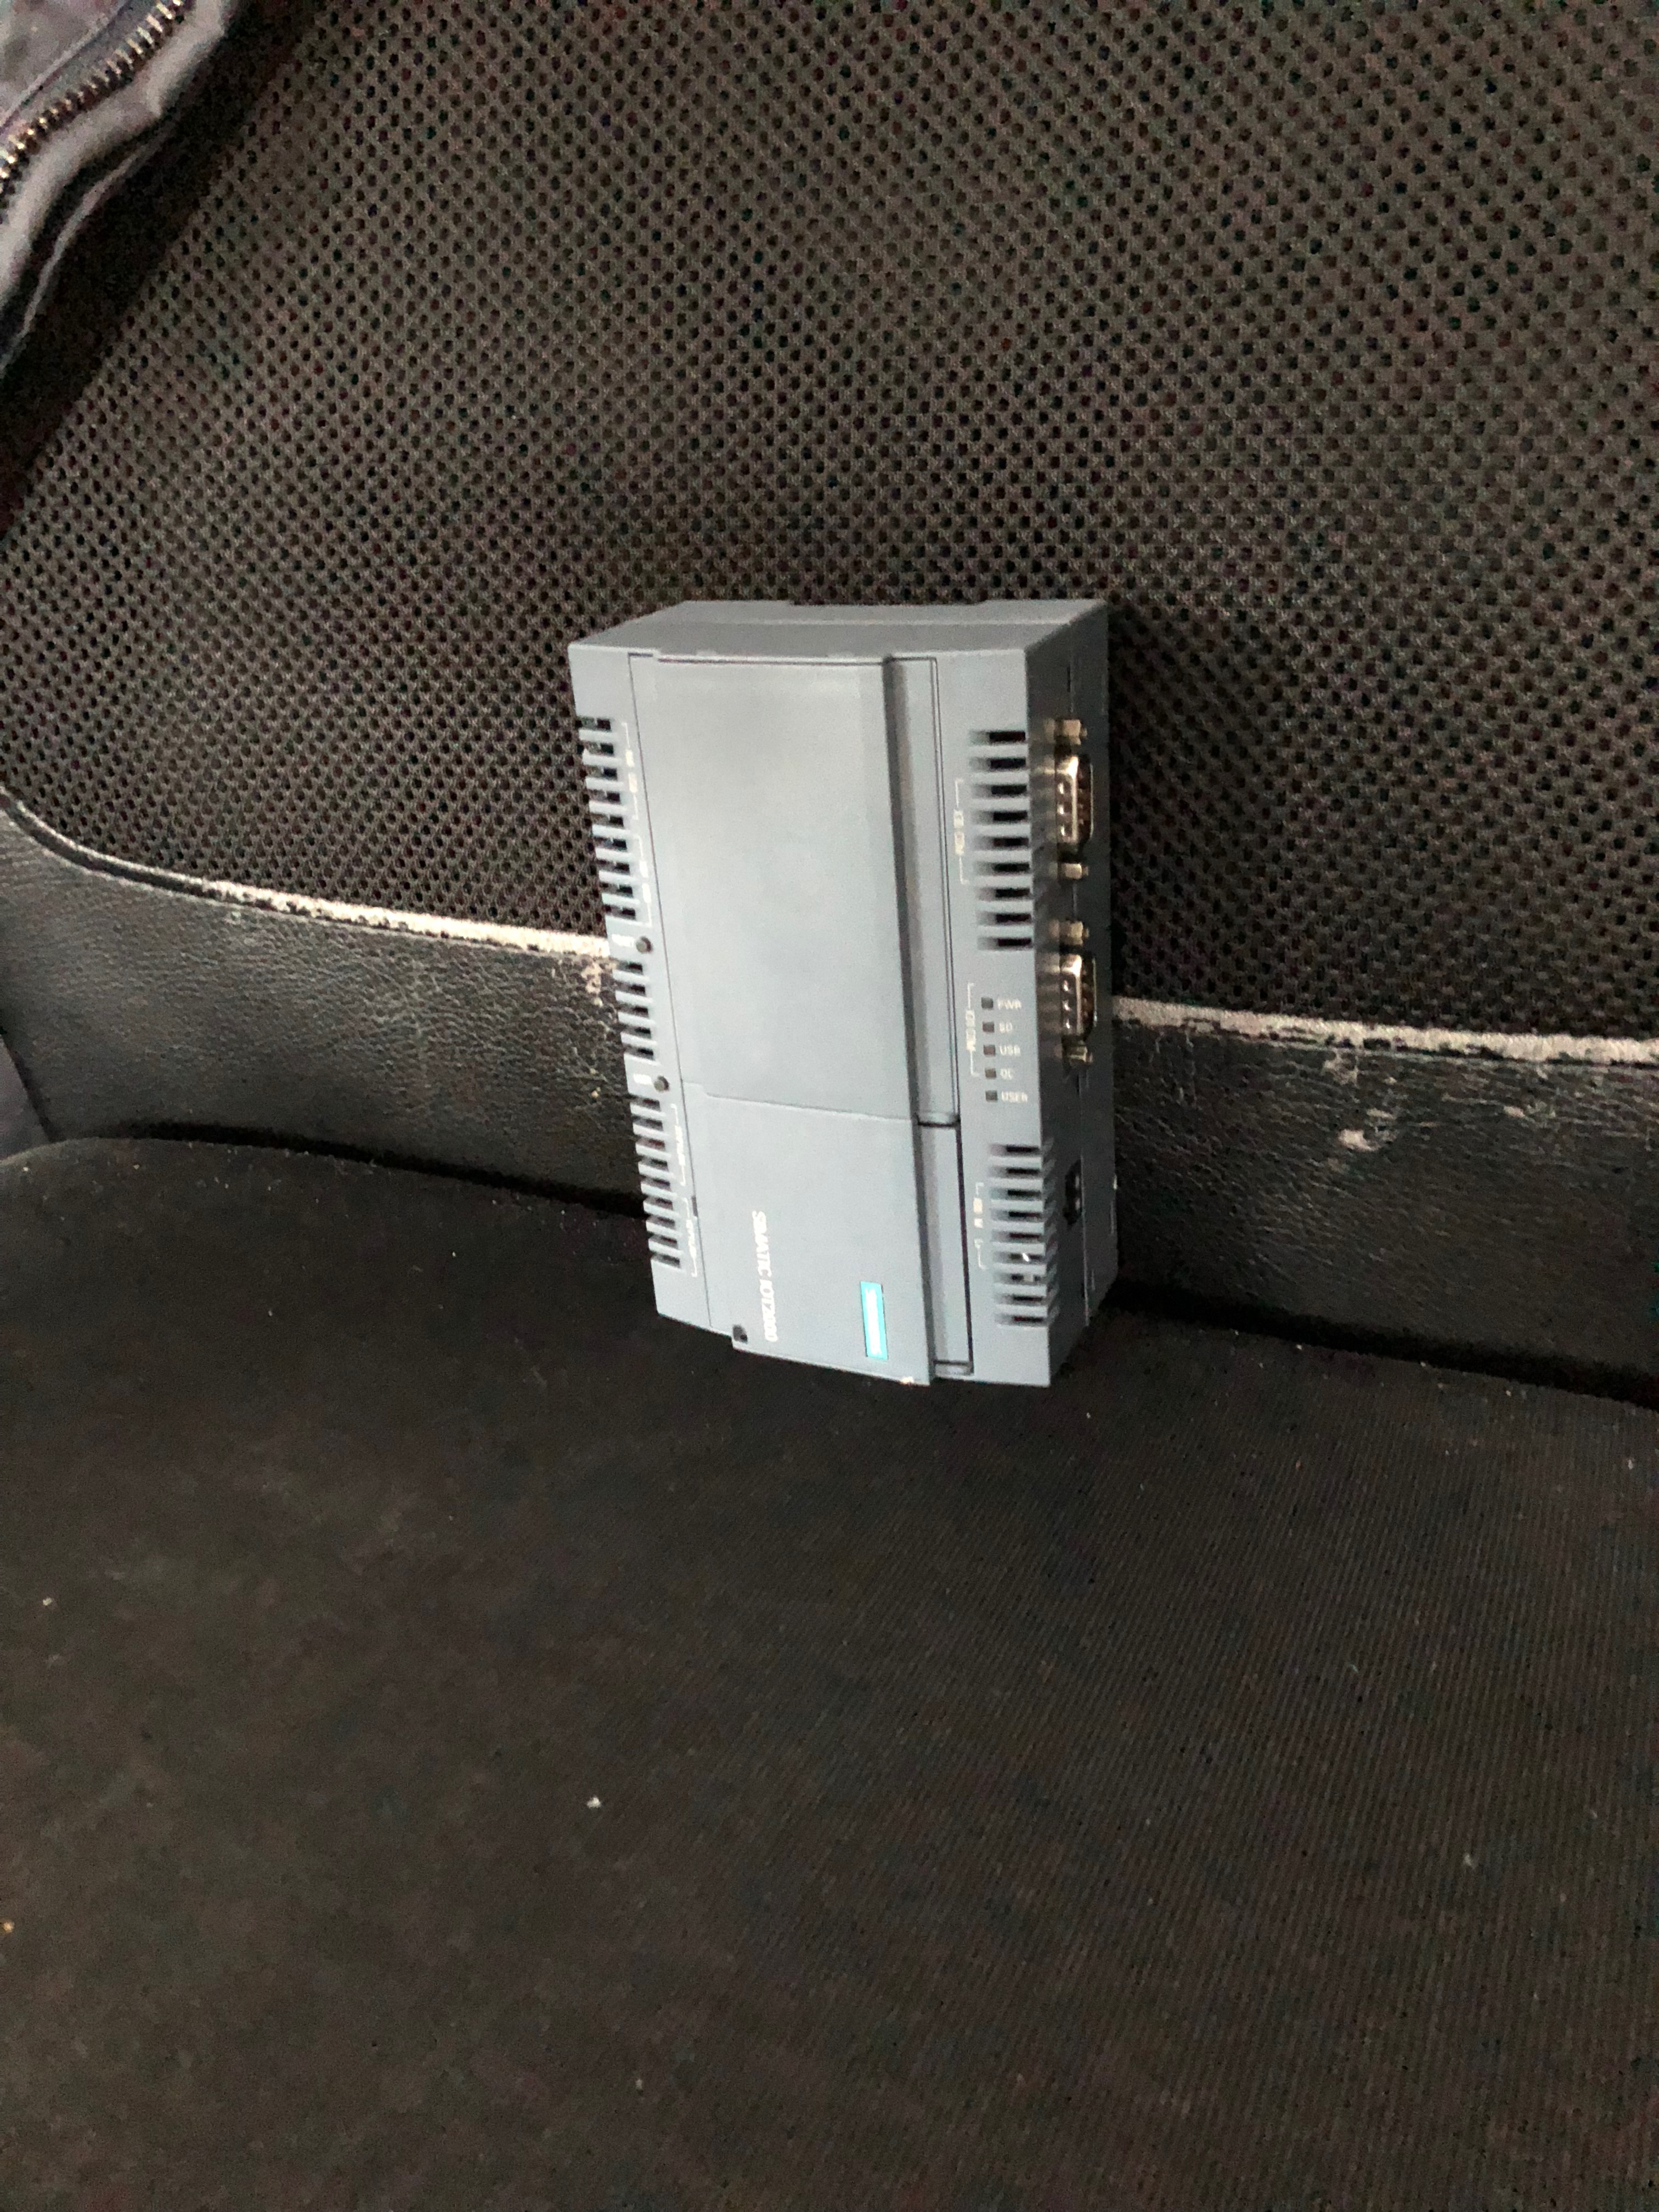device: (566, 599, 1121, 1390)
